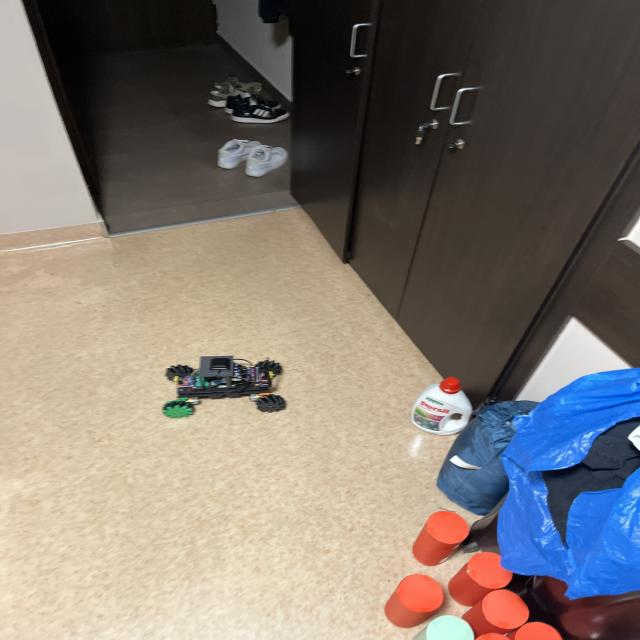robot: (162, 356, 286, 418)
